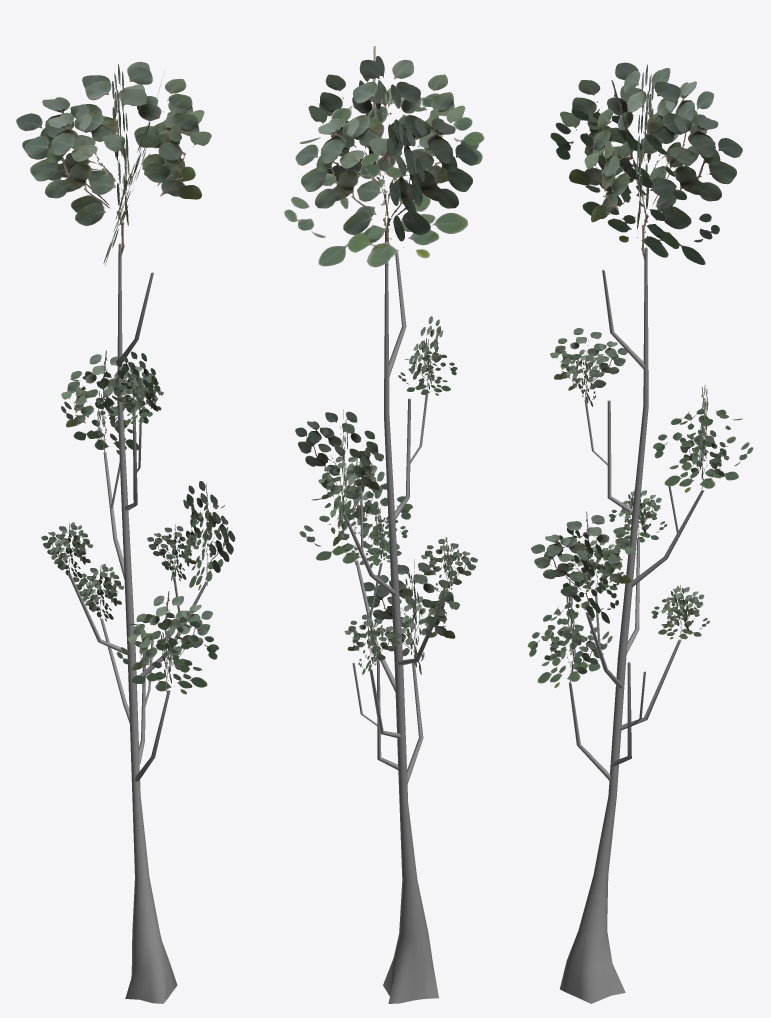
File: tree_1_2.FBX
3 views of the same model, side by side, from view 1: azimuth 30°, elevation 25°; view 2: azimuth 150°, elevation 25°; view 3: azimuth 270°, elevation 25° (orthographic). The views are drawn at different scales.
Visible parts, largest first — view 1: Plane004, Cylinder003; view 2: Plane004, Cylinder003; view 3: Plane004, Cylinder003.
Boxes of the visible parts, x1,y1,x2,y2 form: Plane004: (16, 61, 235, 694); Cylinder003: (67, 243, 207, 1003); Plane004: (284, 46, 484, 674); Cylinder003: (343, 252, 448, 1003); Plane004: (527, 62, 753, 688); Cylinder003: (560, 247, 704, 1003).
Bounding box in the file's own units: 202 × 915 × 205.
